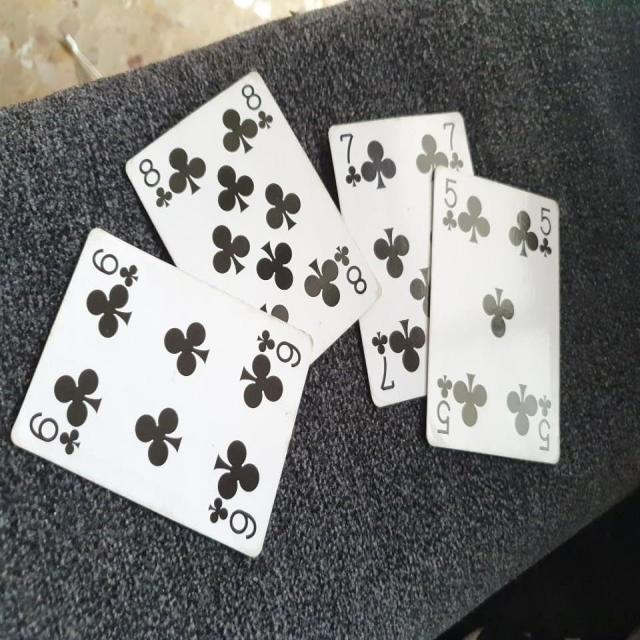5 of clubs: (422, 160, 564, 464)
6 of clubs: (9, 227, 316, 561)
7 of clubs: (326, 106, 479, 410)
8 of clubs: (124, 68, 384, 362)
